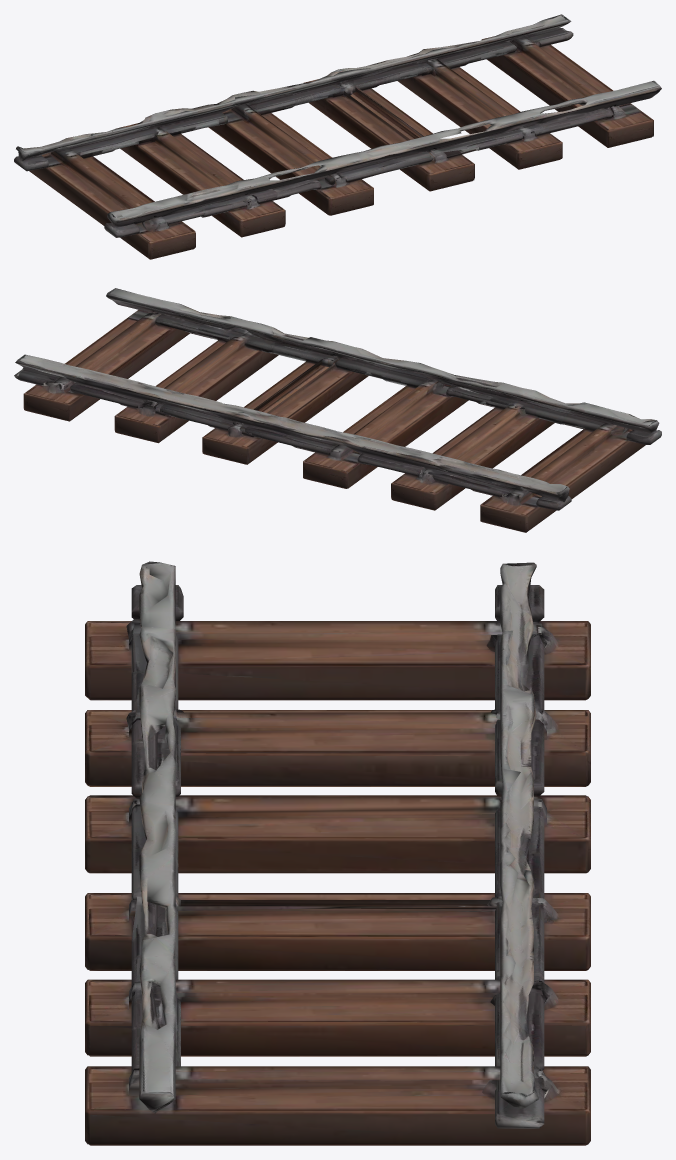
File: Railroad_Tracks.glb
3 views of the same model, one above another, from view 1: azimuth 30°, elevation 25°; view 2: azimuth 150°, elevation 25°; view 3: azimuth 270°, elevation 25° (orthographic). The views are drawn at different scales.
Bounding box in the file's own units: 1.91 × 0.1252 × 0.7633.
Materials: 1 (1 with a texture image).
